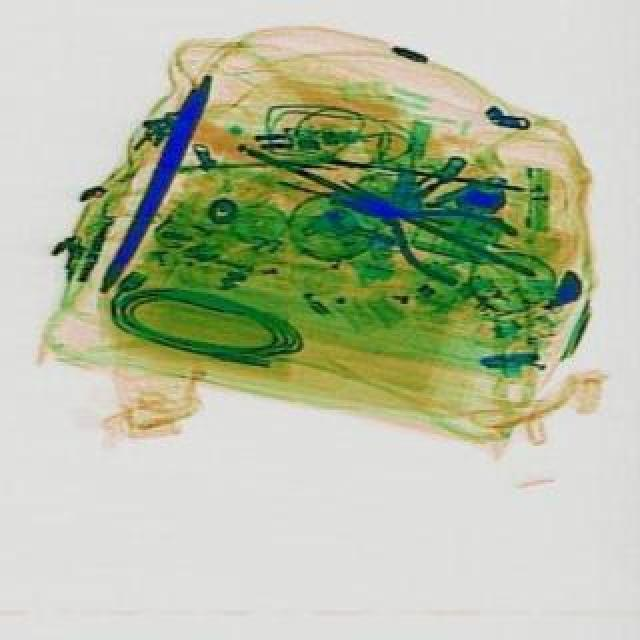wrench: (322, 154, 524, 300)
